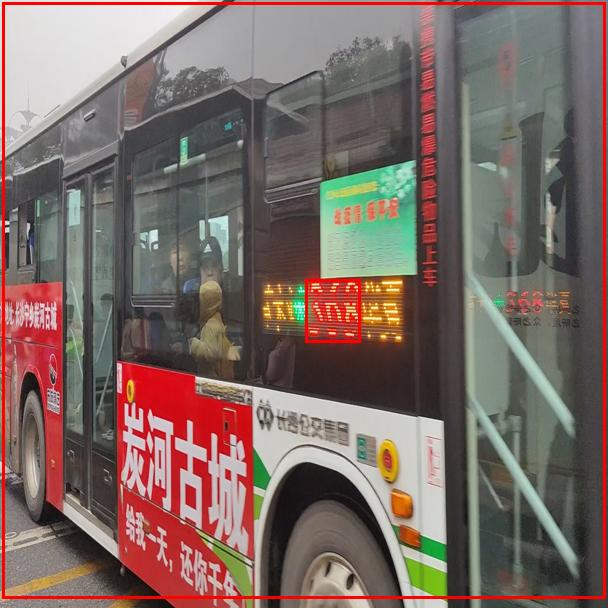bus: (2, 2, 605, 598)
screen: (305, 279, 360, 342)
